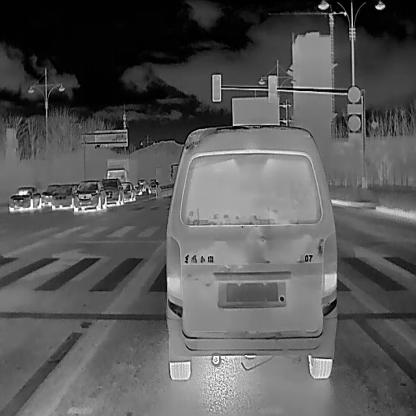car: (163, 124, 339, 384), (74, 180, 106, 210), (7, 184, 41, 209), (106, 157, 134, 183), (99, 176, 122, 205), (54, 184, 73, 206), (41, 180, 54, 206), (118, 181, 134, 201), (148, 181, 158, 193), (136, 180, 145, 192), (134, 184, 140, 194)
